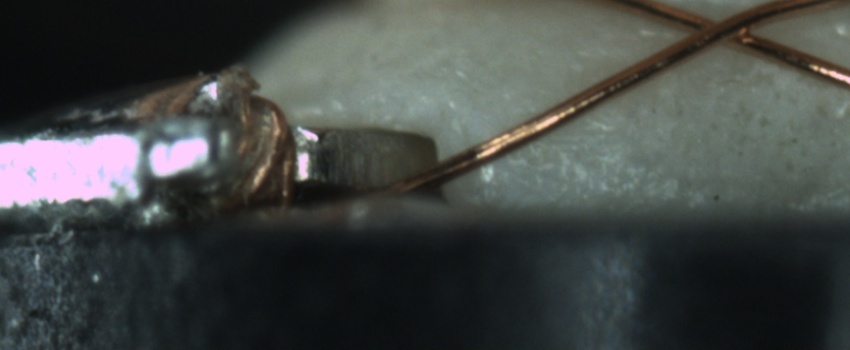CL: (675, 5, 769, 52)
TE: (122, 54, 315, 226)
